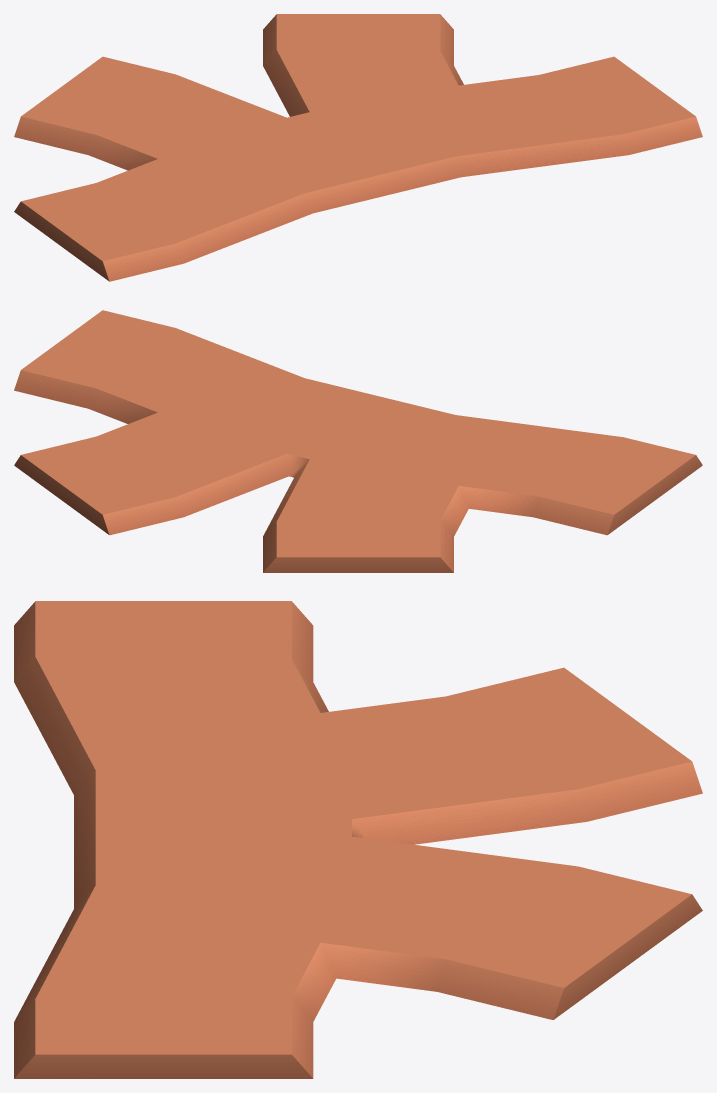
The model's file is path-intersectionH.fbx.
The picture shows the model from 3 angles, top to bottom: view 1: azimuth 30°, elevation 25°; view 2: azimuth 150°, elevation 25°; view 3: azimuth 270°, elevation 25°; orthographic projection. The views are drawn at different scales.
Visible parts, largest first — view 1: path_intersectionH; view 2: path_intersectionH; view 3: path_intersectionH.
Boxes of the visible parts, x1,y1,x2,y2 form: path_intersectionH: (14,14,702,281); path_intersectionH: (14,310,702,572); path_intersectionH: (14,601,702,1078).
Size of the model in its own units: 100 by 2.5 by 64.23.
1 material, 1 textured.
